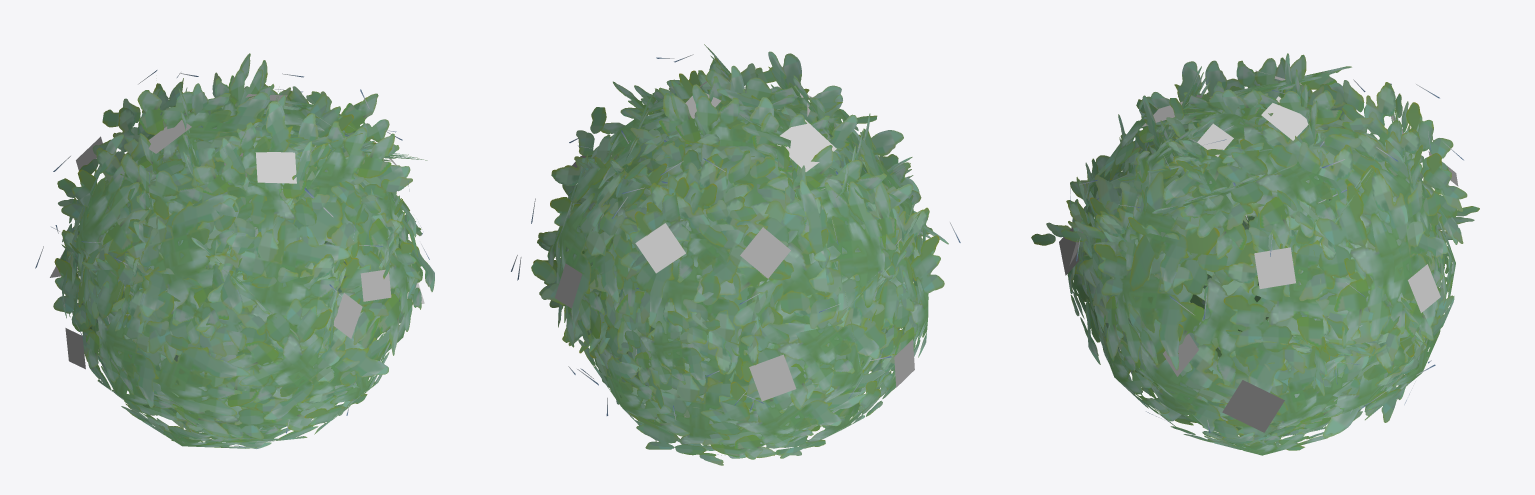
Rendered from pref_sm_beach_winter_techqiutree04_lv3.fbx.
The picture shows the model from 3 angles, left to right: view 1: azimuth 30°, elevation 25°; view 2: azimuth 150°, elevation 25°; view 3: azimuth 270°, elevation 25°; orthographic projection. The views are drawn at different scales.
Parts seen in each view (by area): view 1: sm_beach_winter_techqiutree04_lv3, sm_beach_winter_techqiutree04b_lv3; view 2: sm_beach_winter_techqiutree04_lv3, sm_beach_winter_techqiutree04b_lv3; view 3: sm_beach_winter_techqiutree04_lv3, sm_beach_winter_techqiutree04b_lv3.
Boxes of the visible parts, bbox=[...] form: sm_beach_winter_techqiutree04_lv3: bbox=[35, 53, 434, 448]; sm_beach_winter_techqiutree04b_lv3: bbox=[50, 94, 424, 369]; sm_beach_winter_techqiutree04_lv3: bbox=[511, 44, 960, 465]; sm_beach_winter_techqiutree04b_lv3: bbox=[555, 81, 914, 401]; sm_beach_winter_techqiutree04_lv3: bbox=[1031, 53, 1479, 455]; sm_beach_winter_techqiutree04b_lv3: bbox=[1059, 70, 1458, 432].
Bounding box in the file's own units: 4.02 × 3.84 × 4.27.
